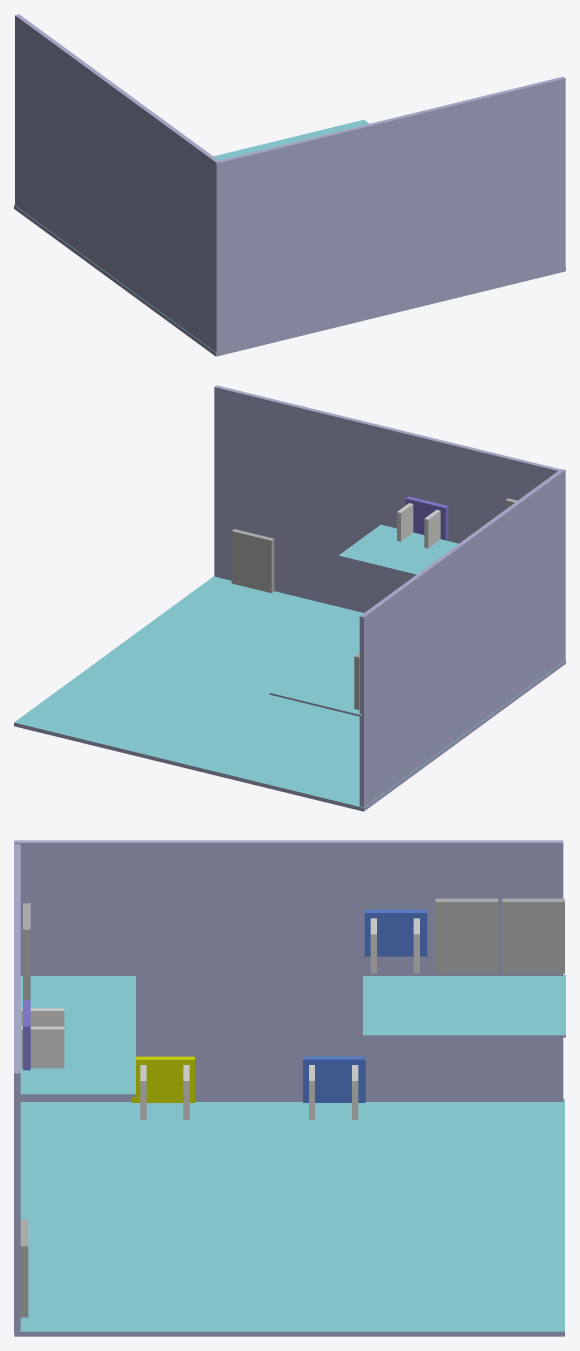
File: NivelPuzzleFinal.fbx
The picture shows the model from 3 angles, top to bottom: view 1: azimuth 30°, elevation 25°; view 2: azimuth 150°, elevation 25°; view 3: azimuth 270°, elevation 25°; orthographic projection. The views are drawn at different scales.
Visible parts, largest first — view 1: pCube36; view 2: pCube36; view 3: pCube36.
Boxes of the visible parts, x1=… form: pCube36: x1=14, y1=14, x2=565, y2=356; pCube36: x1=14, y1=385, x2=565, y2=811; pCube36: x1=14, y1=840, x2=565, y2=1336.
Bounding box in the file's own units: 23.07 × 12.21 × 23.13.
